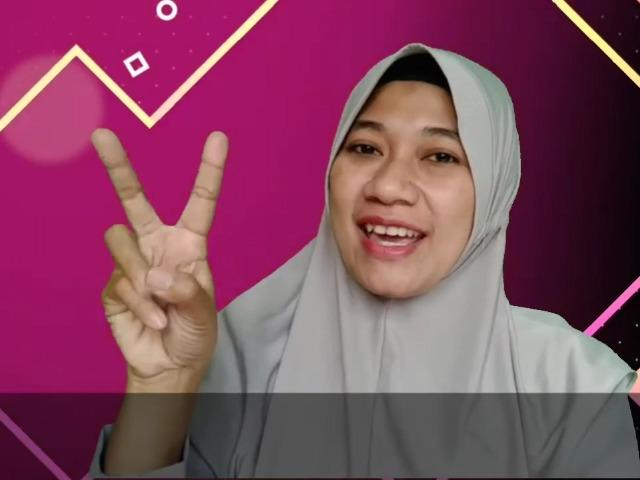V: (84, 124, 236, 382)
